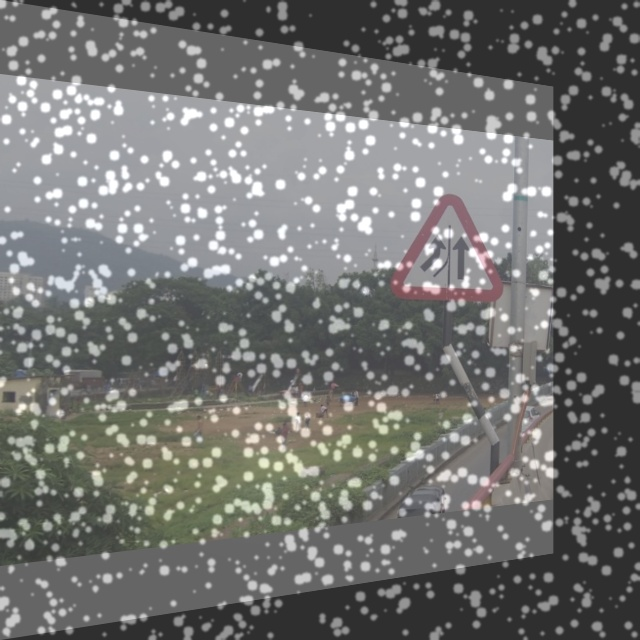Merge_Traffic_Ahead: (394, 187, 504, 307)
